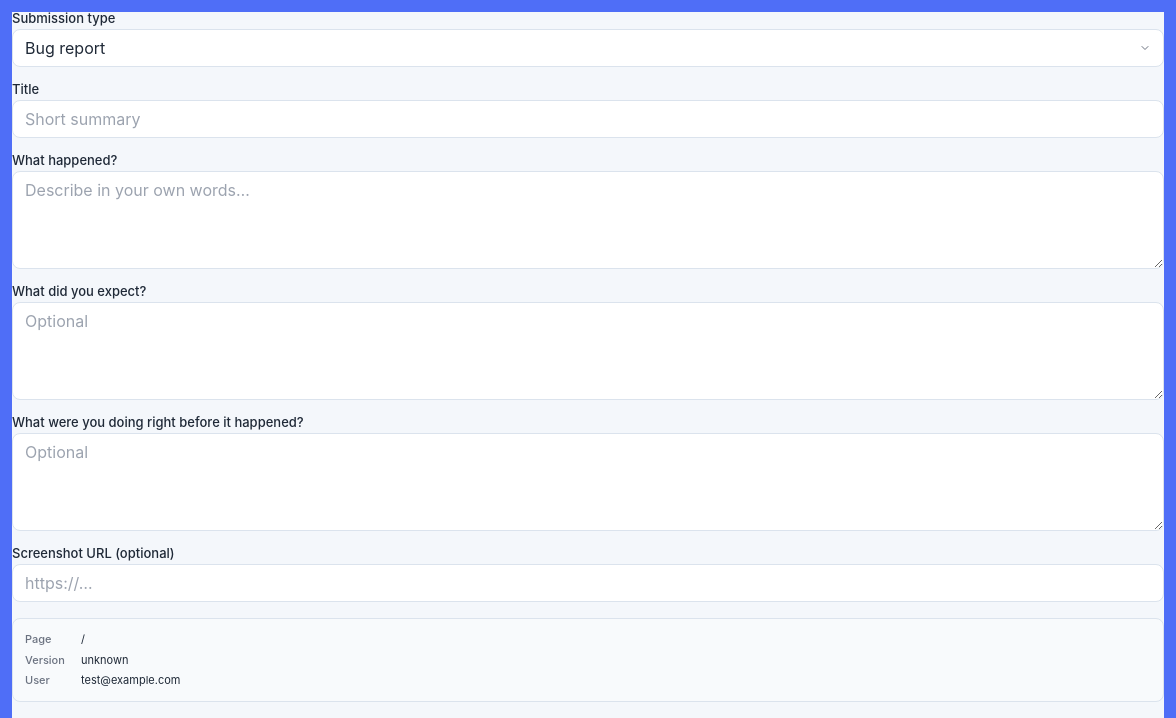
FeedbackForm › changes questions when type changes
Select "Feature request" in the dropdown labelled "Submission type" at (588, 48), box [12,29,1164,67]
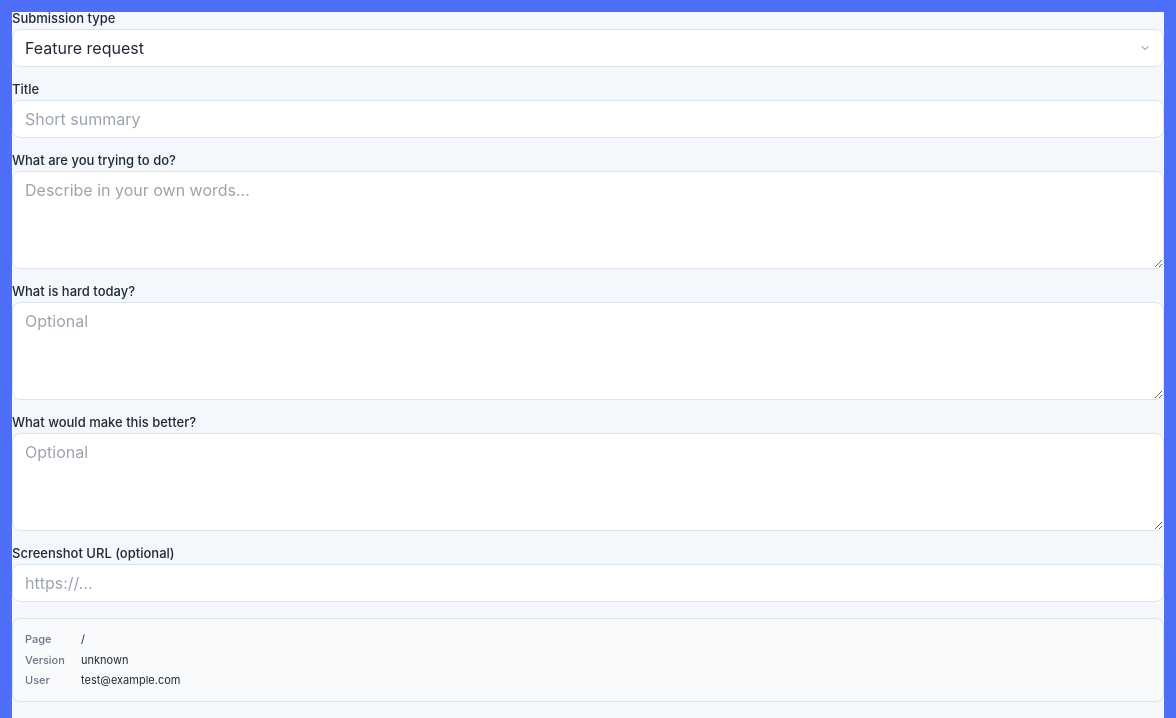
Expected: the text "What are you trying to do?" is shown, [12,152,176,168]
Expected: the text "What is hard today?" is shown, [12,283,135,299]
Expected: the text "What would make this better?" is shown, [12,414,196,430]
